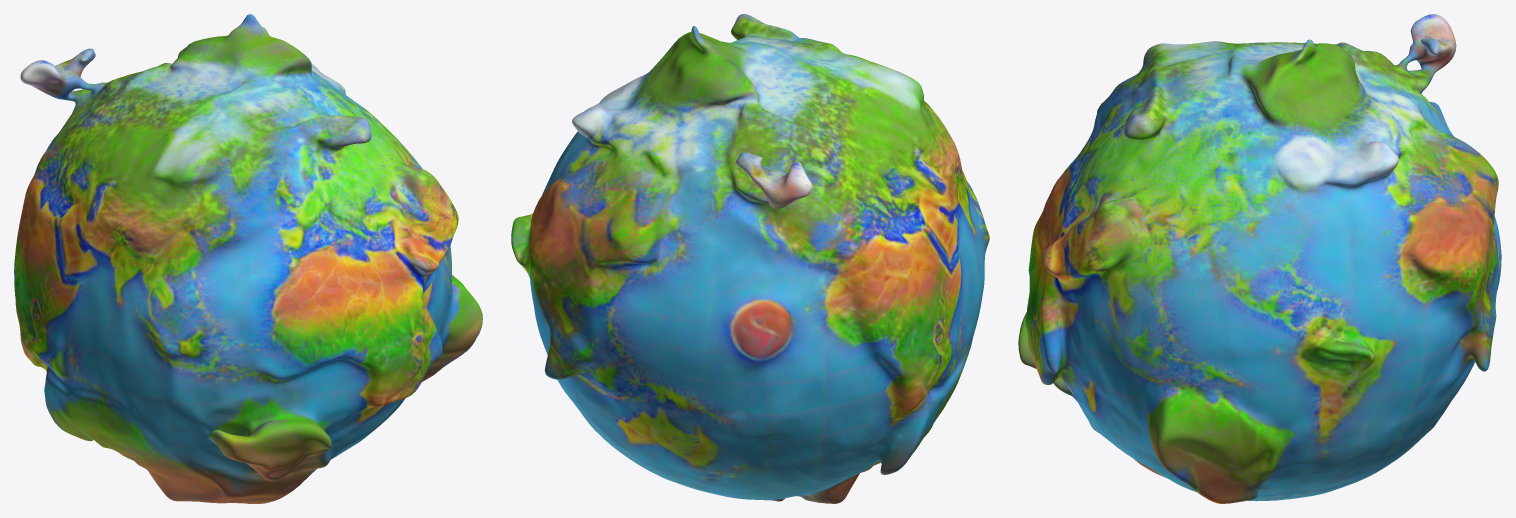
File: planet.glb
3 renders of one model, left to right at view 1: azimuth 30°, elevation 25°; view 2: azimuth 150°, elevation 25°; view 3: azimuth 270°, elevation 25°, orthographic. The views are drawn at different scales.
Visible parts, largest first — view 1: geometry_0; view 2: geometry_0; view 3: geometry_0.
Boxes of the visible parts, x1,y1,x2,y2 form: geometry_0: (14, 14, 482, 503); geometry_0: (511, 14, 989, 503); geometry_0: (1018, 14, 1501, 503).
Bounding box in the file's own units: 0.473 × 0.5121 × 0.473.
1 material, 1 textured.
